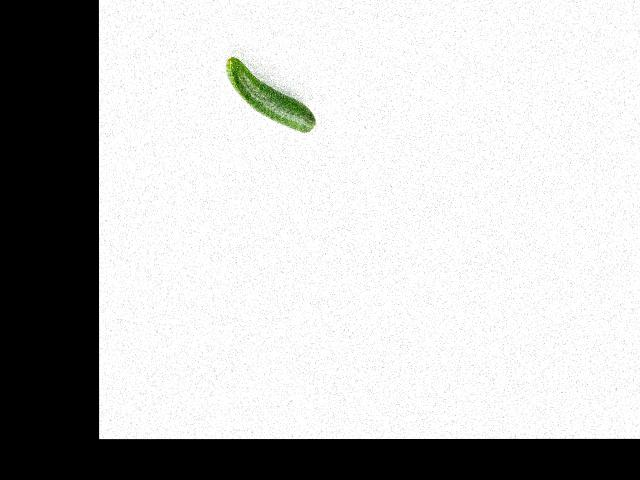cucumber: (226, 56, 315, 132)
